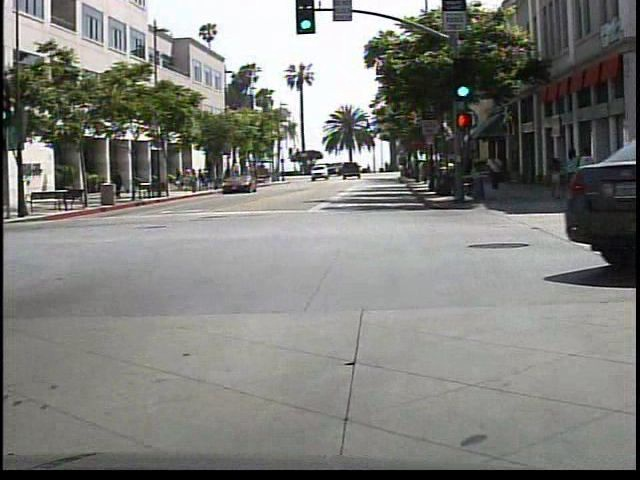person: (482, 150, 505, 195), (110, 163, 128, 203)
